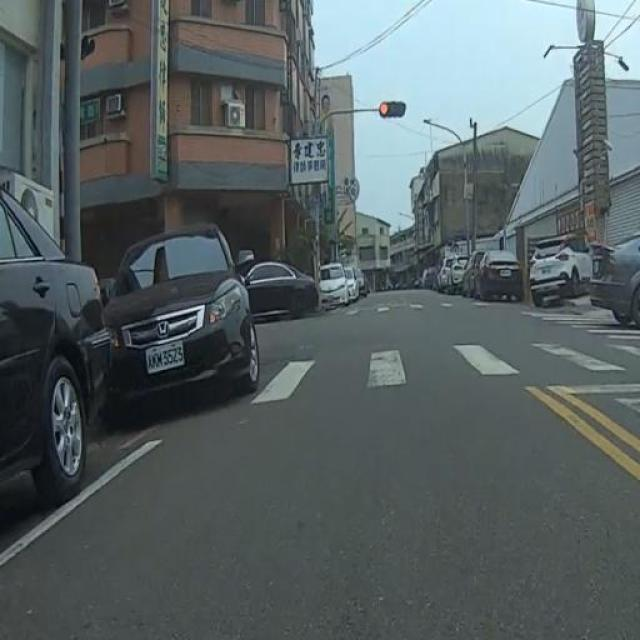Legalparking: (424, 251, 521, 300), (320, 262, 366, 306)
illegalparking: (0, 195, 315, 496), (529, 235, 591, 305)
